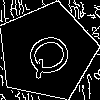Q: (21, 26, 83, 82)
